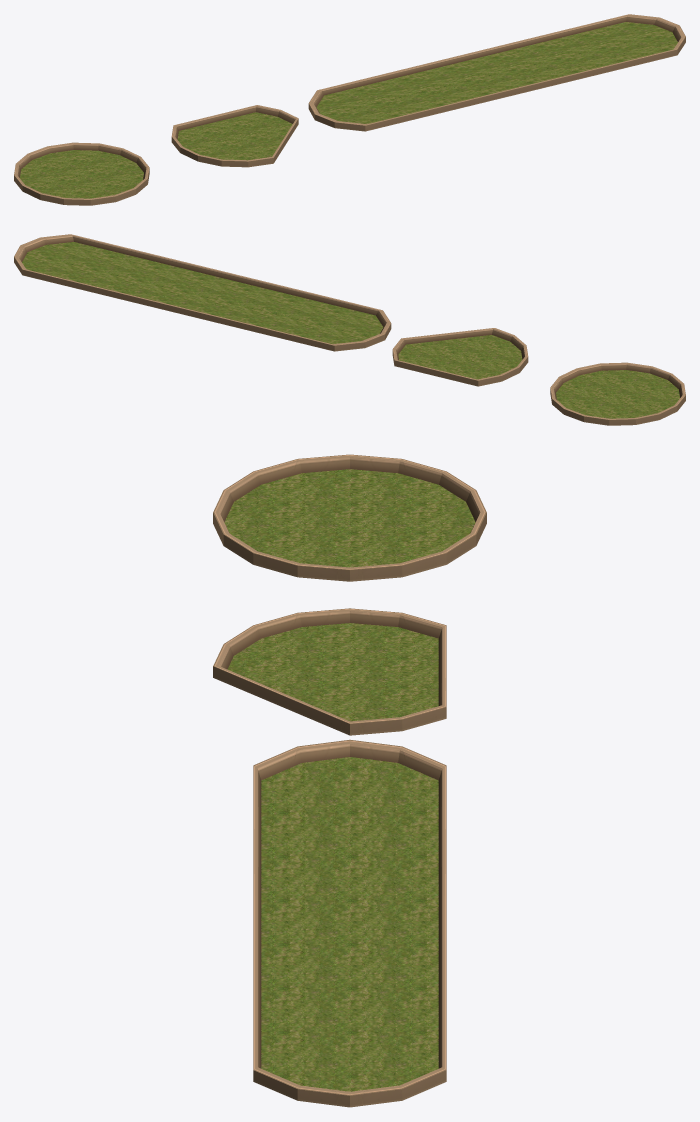
The model's file is Plant.FBX.
The picture shows the model from 3 angles, top to bottom: view 1: azimuth 30°, elevation 25°; view 2: azimuth 150°, elevation 25°; view 3: azimuth 270°, elevation 25°; orthographic projection. The views are drawn at different scales.
Parts seen in each view (by area): view 1: Object003, Object001, Object002; view 2: Object003, Object001, Object002; view 3: Object003, Object001, Object002.
Part boxes in pixels (left/top/right/bottom): Object003: left=308, top=14, right=685, bottom=131; Object001: left=14, top=142, right=149, bottom=205; Object002: left=171, top=105, right=298, bottom=167; Object003: left=14, top=234, right=391, bottom=351; Object001: left=550, top=362, right=685, bottom=425; Object002: left=392, top=328, right=528, bottom=386; Object003: left=253, top=739, right=446, bottom=1107; Object001: left=213, top=454, right=486, bottom=581; Object002: left=213, top=608, right=446, bottom=735.
Size of the model in its own units: 10.12 by 0.0854 by 1.83.
